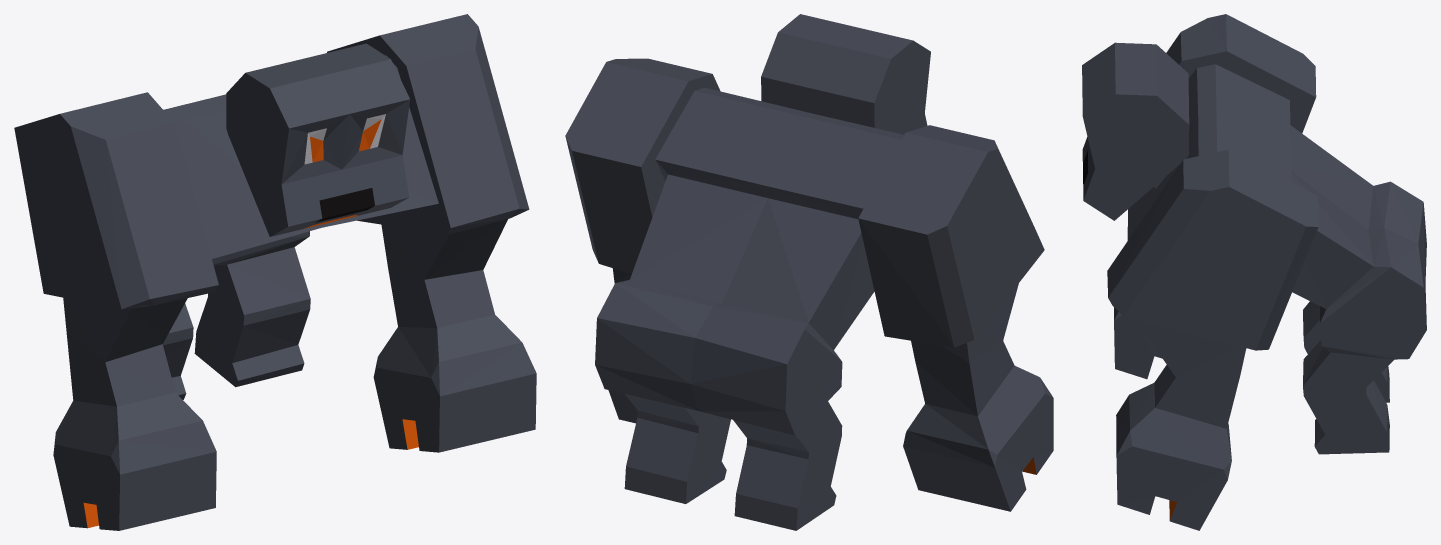
The model's file is kong_000011.obj.
3 renders of one model, left to right at view 1: azimuth 30°, elevation 25°; view 2: azimuth 150°, elevation 25°; view 3: azimuth 270°, elevation 25°, orthographic. The views are drawn at different scales.
Visible parts, largest first — view 1: Cube; view 2: Cube; view 3: Cube.
Part boxes in pixels (x1,y1,x2,y2): Cube: (14,14,536,530); Cube: (565,14,1053,530); Cube: (1082,14,1426,530).
Bounding box in the file's own units: 5.85 × 5.81 × 4.83.
1 material, 1 textured.
